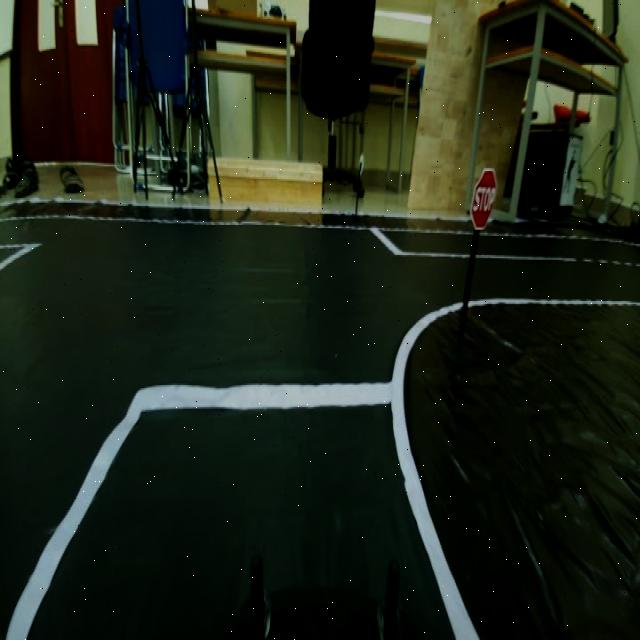stop: (469, 167, 501, 237)
